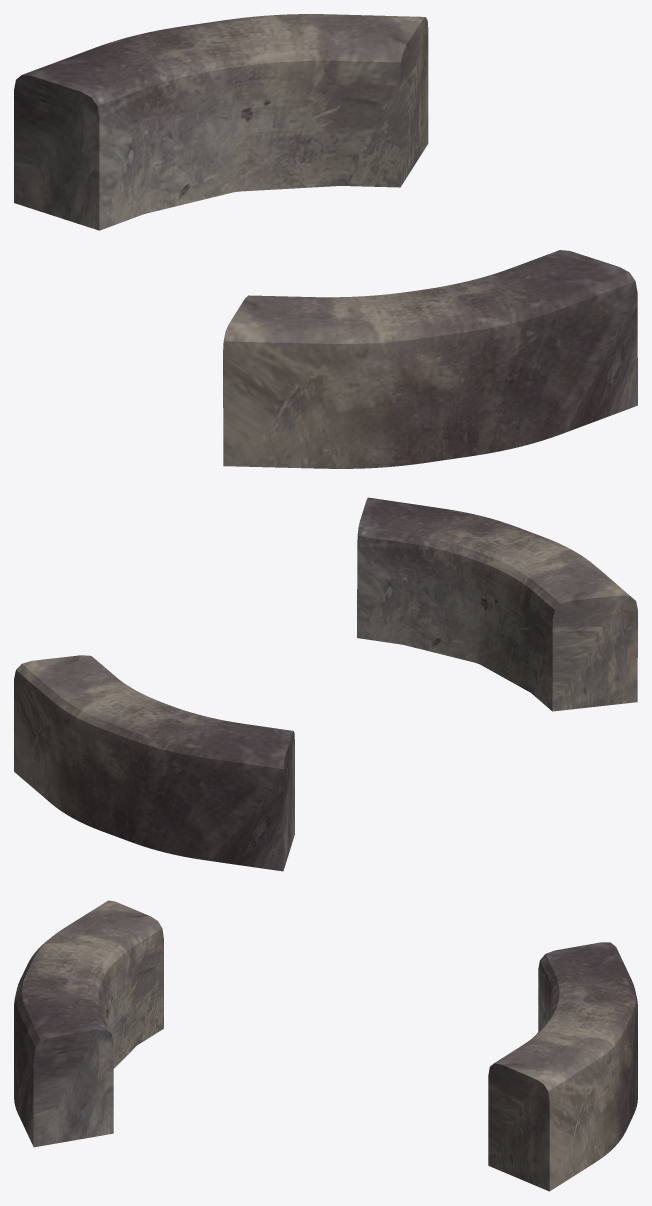
File: tables.FBX
3 views of the same model, one above another, from view 1: azimuth 30°, elevation 25°; view 2: azimuth 150°, elevation 25°; view 3: azimuth 270°, elevation 25° (orthographic). The views are drawn at different scales.
Visible parts, largest first — view 1: poyta002, poyta1; view 2: poyta1, poyta002; view 3: poyta1, poyta002.
Part boxes in pixels (x1=…): poyta002: x1=223, y1=250, x2=637, y2=468; poyta1: x1=14, y1=14, x2=428, y2=230; poyta1: x1=14, y1=655, x2=294, y2=871; poyta002: x1=357, y1=497, x2=637, y2=711; poyta1: x1=488, y1=942, x2=637, y2=1191; poyta002: x1=14, y1=900, x2=163, y2=1147.
Bounding box in the file's own units: 120 × 31.85 × 167.
Materials: 1 (1 with a texture image).
